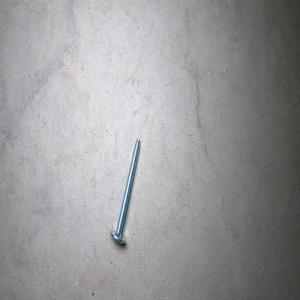Bolt: (109, 137, 141, 244)
